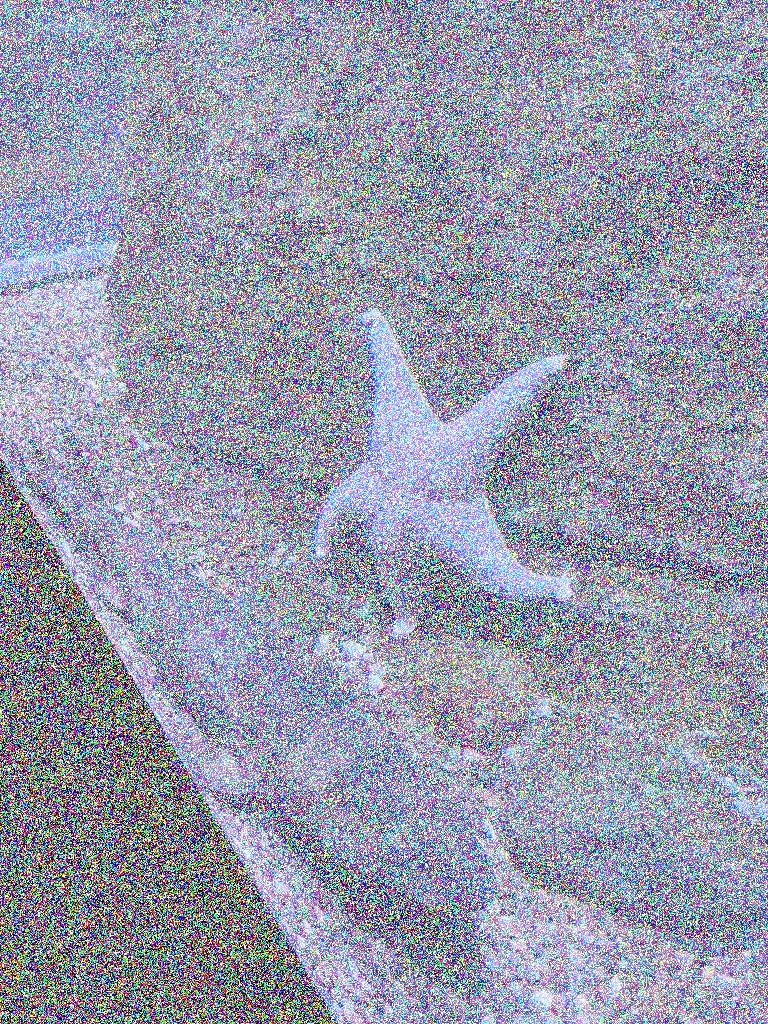shark: (1, 425, 494, 907)
starfish: (314, 308, 572, 638)
